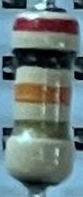Black: (12, 46, 79, 71)
Orange: (12, 82, 73, 110)
Red: (11, 17, 81, 36)
Side-Gold: (9, 118, 73, 143)
